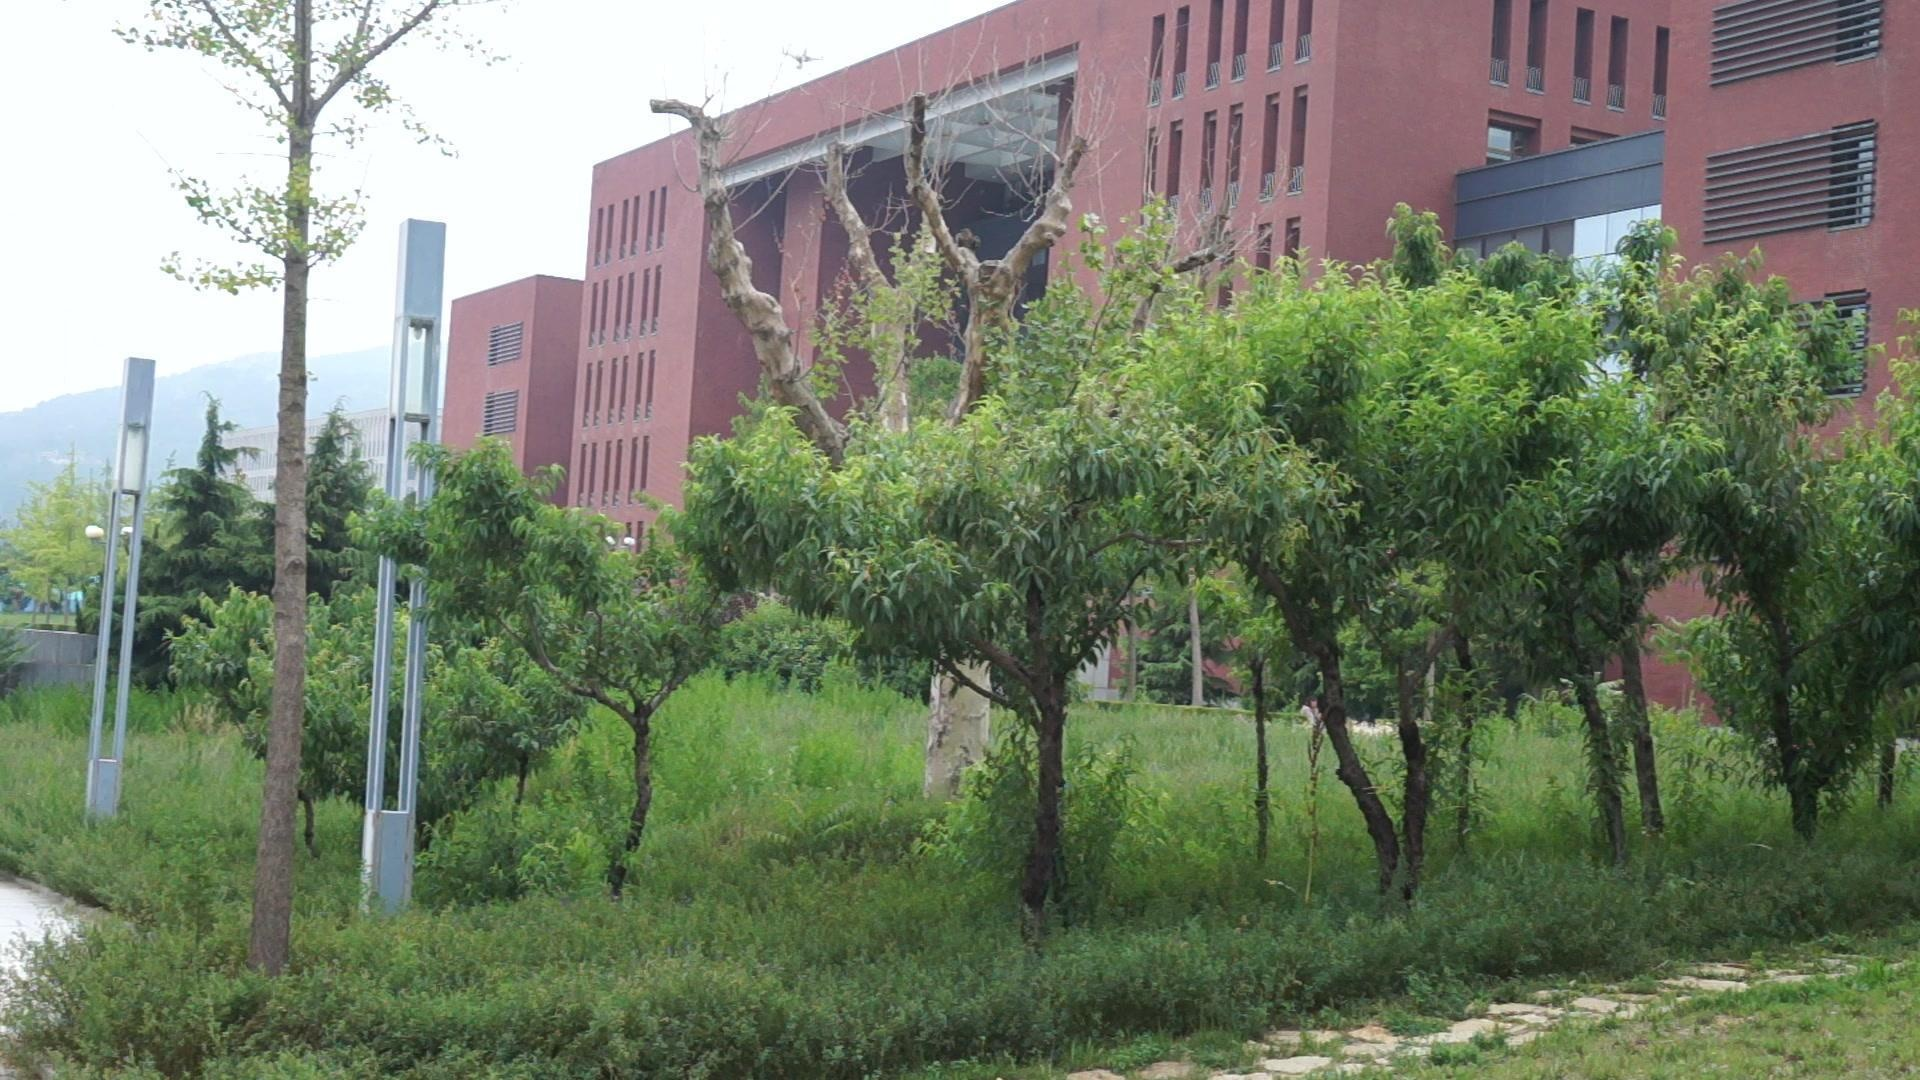UAV: (783, 44, 825, 70)
